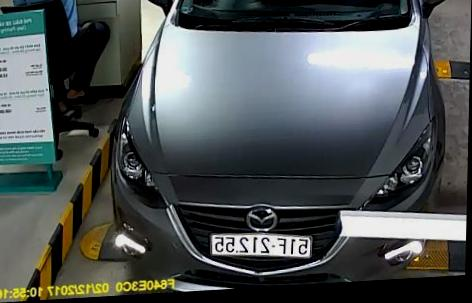License_Plate: (206, 229, 315, 261)
